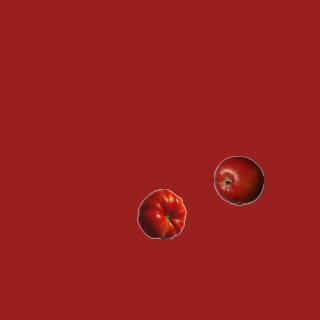Apple Braeburn: (213, 155, 263, 205)
Tomato 3: (136, 188, 186, 238)
